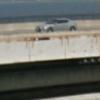cars: (35, 18, 78, 32)
